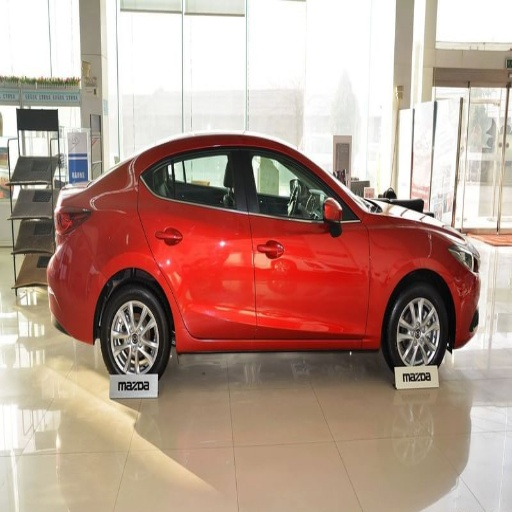_background_: (51, 243, 106, 337)
back_left_light: (140, 140, 256, 338)
back_right_door: (57, 205, 88, 237)
front_left_light: (245, 142, 369, 336)
trunk: (100, 280, 171, 381), (386, 284, 450, 378)
